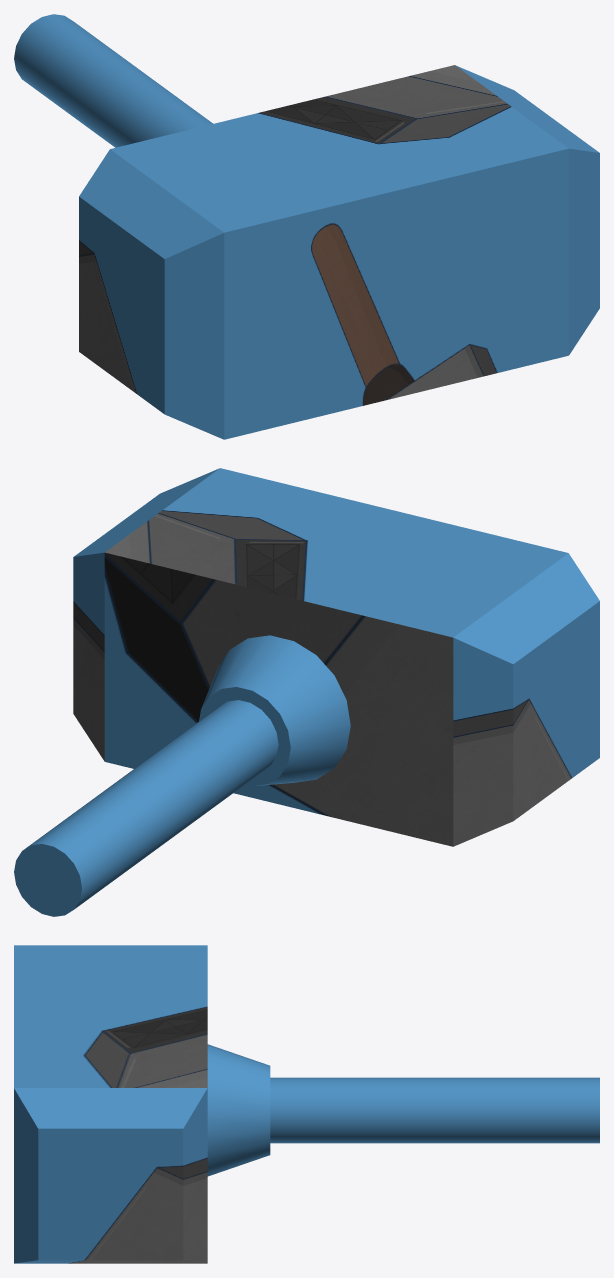
The model's file is Hammer.FBX.
The picture shows the model from 3 angles, top to bottom: view 1: azimuth 30°, elevation 25°; view 2: azimuth 150°, elevation 25°; view 3: azimuth 270°, elevation 25°; orthographic projection. The views are drawn at different scales.
Visible parts, largest first — view 1: PanelShatter; view 2: PanelShatter; view 3: PanelShatter.
Part boxes in pixels (<box>): PanelShatter: <box>14,14,599,439</box>; PanelShatter: <box>14,468,599,916</box>; PanelShatter: <box>14,945,599,1263</box>.
Size of the model in its own units: 22 by 10 by 30.27.
